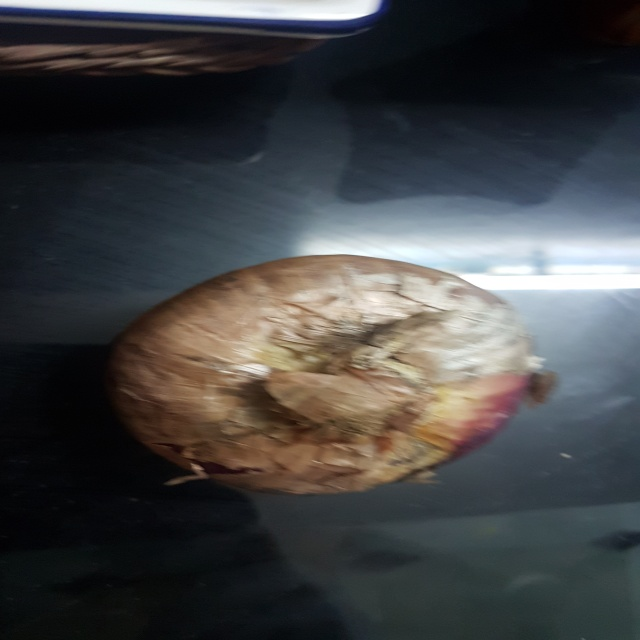onion: (114, 247, 556, 514)
